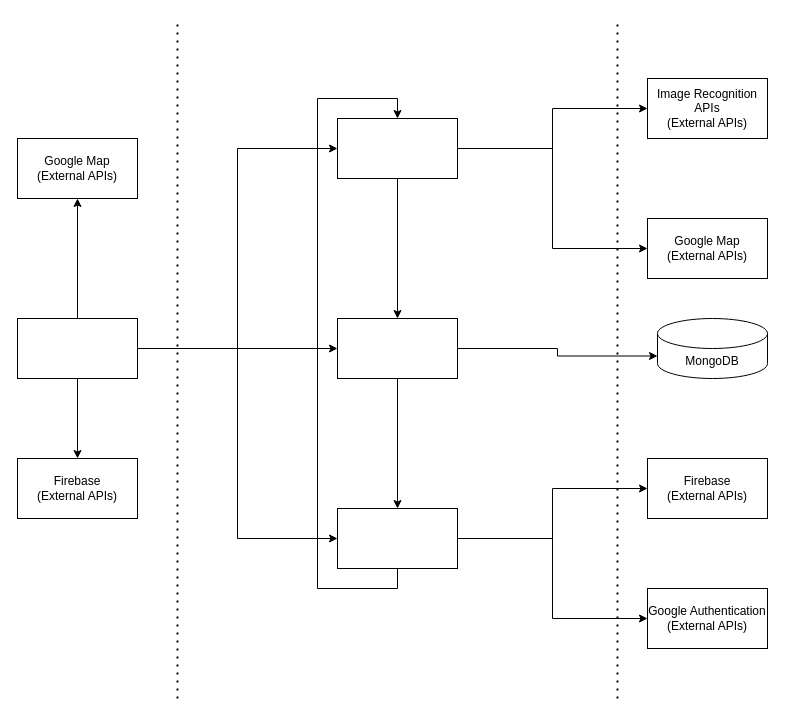
Some shapes in this 785 by 717 pixel diagram are drawn without their labels. The shapes that lost their labels are listed below. From the top down, each one's box as (x1, y1, x2, y2) in pixels, then its label:
(336, 118, 458, 178): Species Identification
(16, 318, 138, 378): Frontend
(336, 318, 458, 378): Catalog
(336, 508, 458, 568): User
